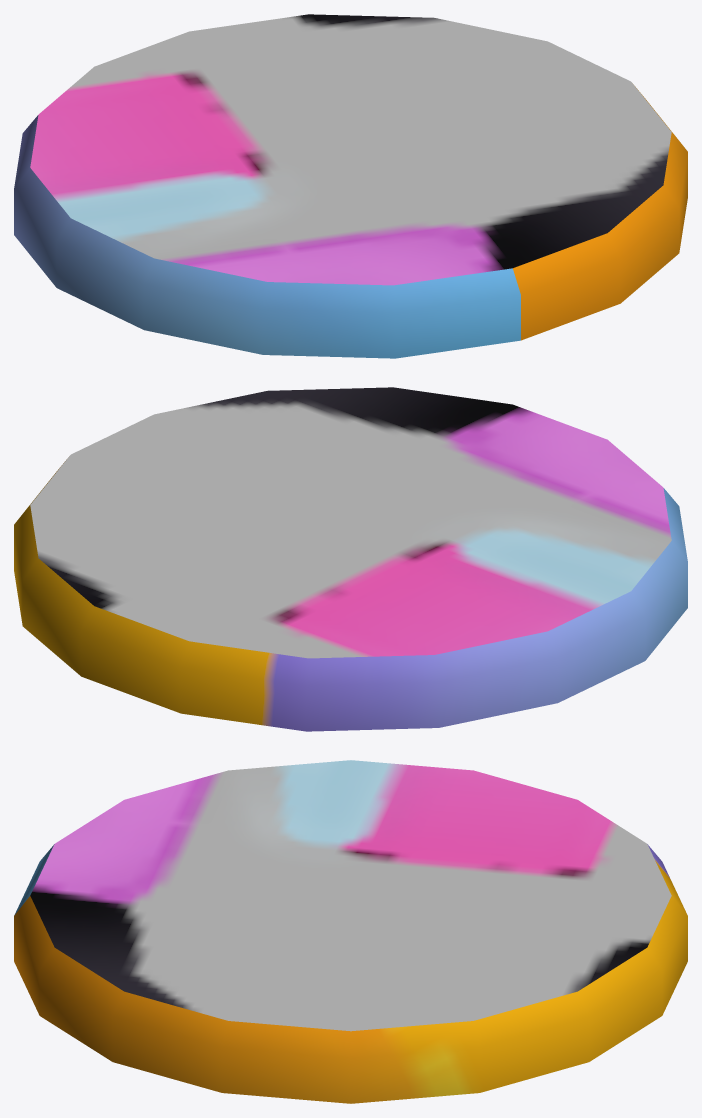
Rendered from dif8.1.fbx.
The picture shows the model from 3 angles, top to bottom: view 1: azimuth 30°, elevation 25°; view 2: azimuth 150°, elevation 25°; view 3: azimuth 270°, elevation 25°; orthographic projection.
Parts seen in each view (by area): view 1: Cube.001; view 2: Cube.001; view 3: Cube.001.
Boxes of the visible parts, x1=… form: Cube.001: x1=14, y1=14, x2=687, y2=358; Cube.001: x1=14, y1=387, x2=687, y2=731; Cube.001: x1=14, y1=760, x2=687, y2=1103.
Bounding box in the file's own units: 290 × 31.18 × 290.
